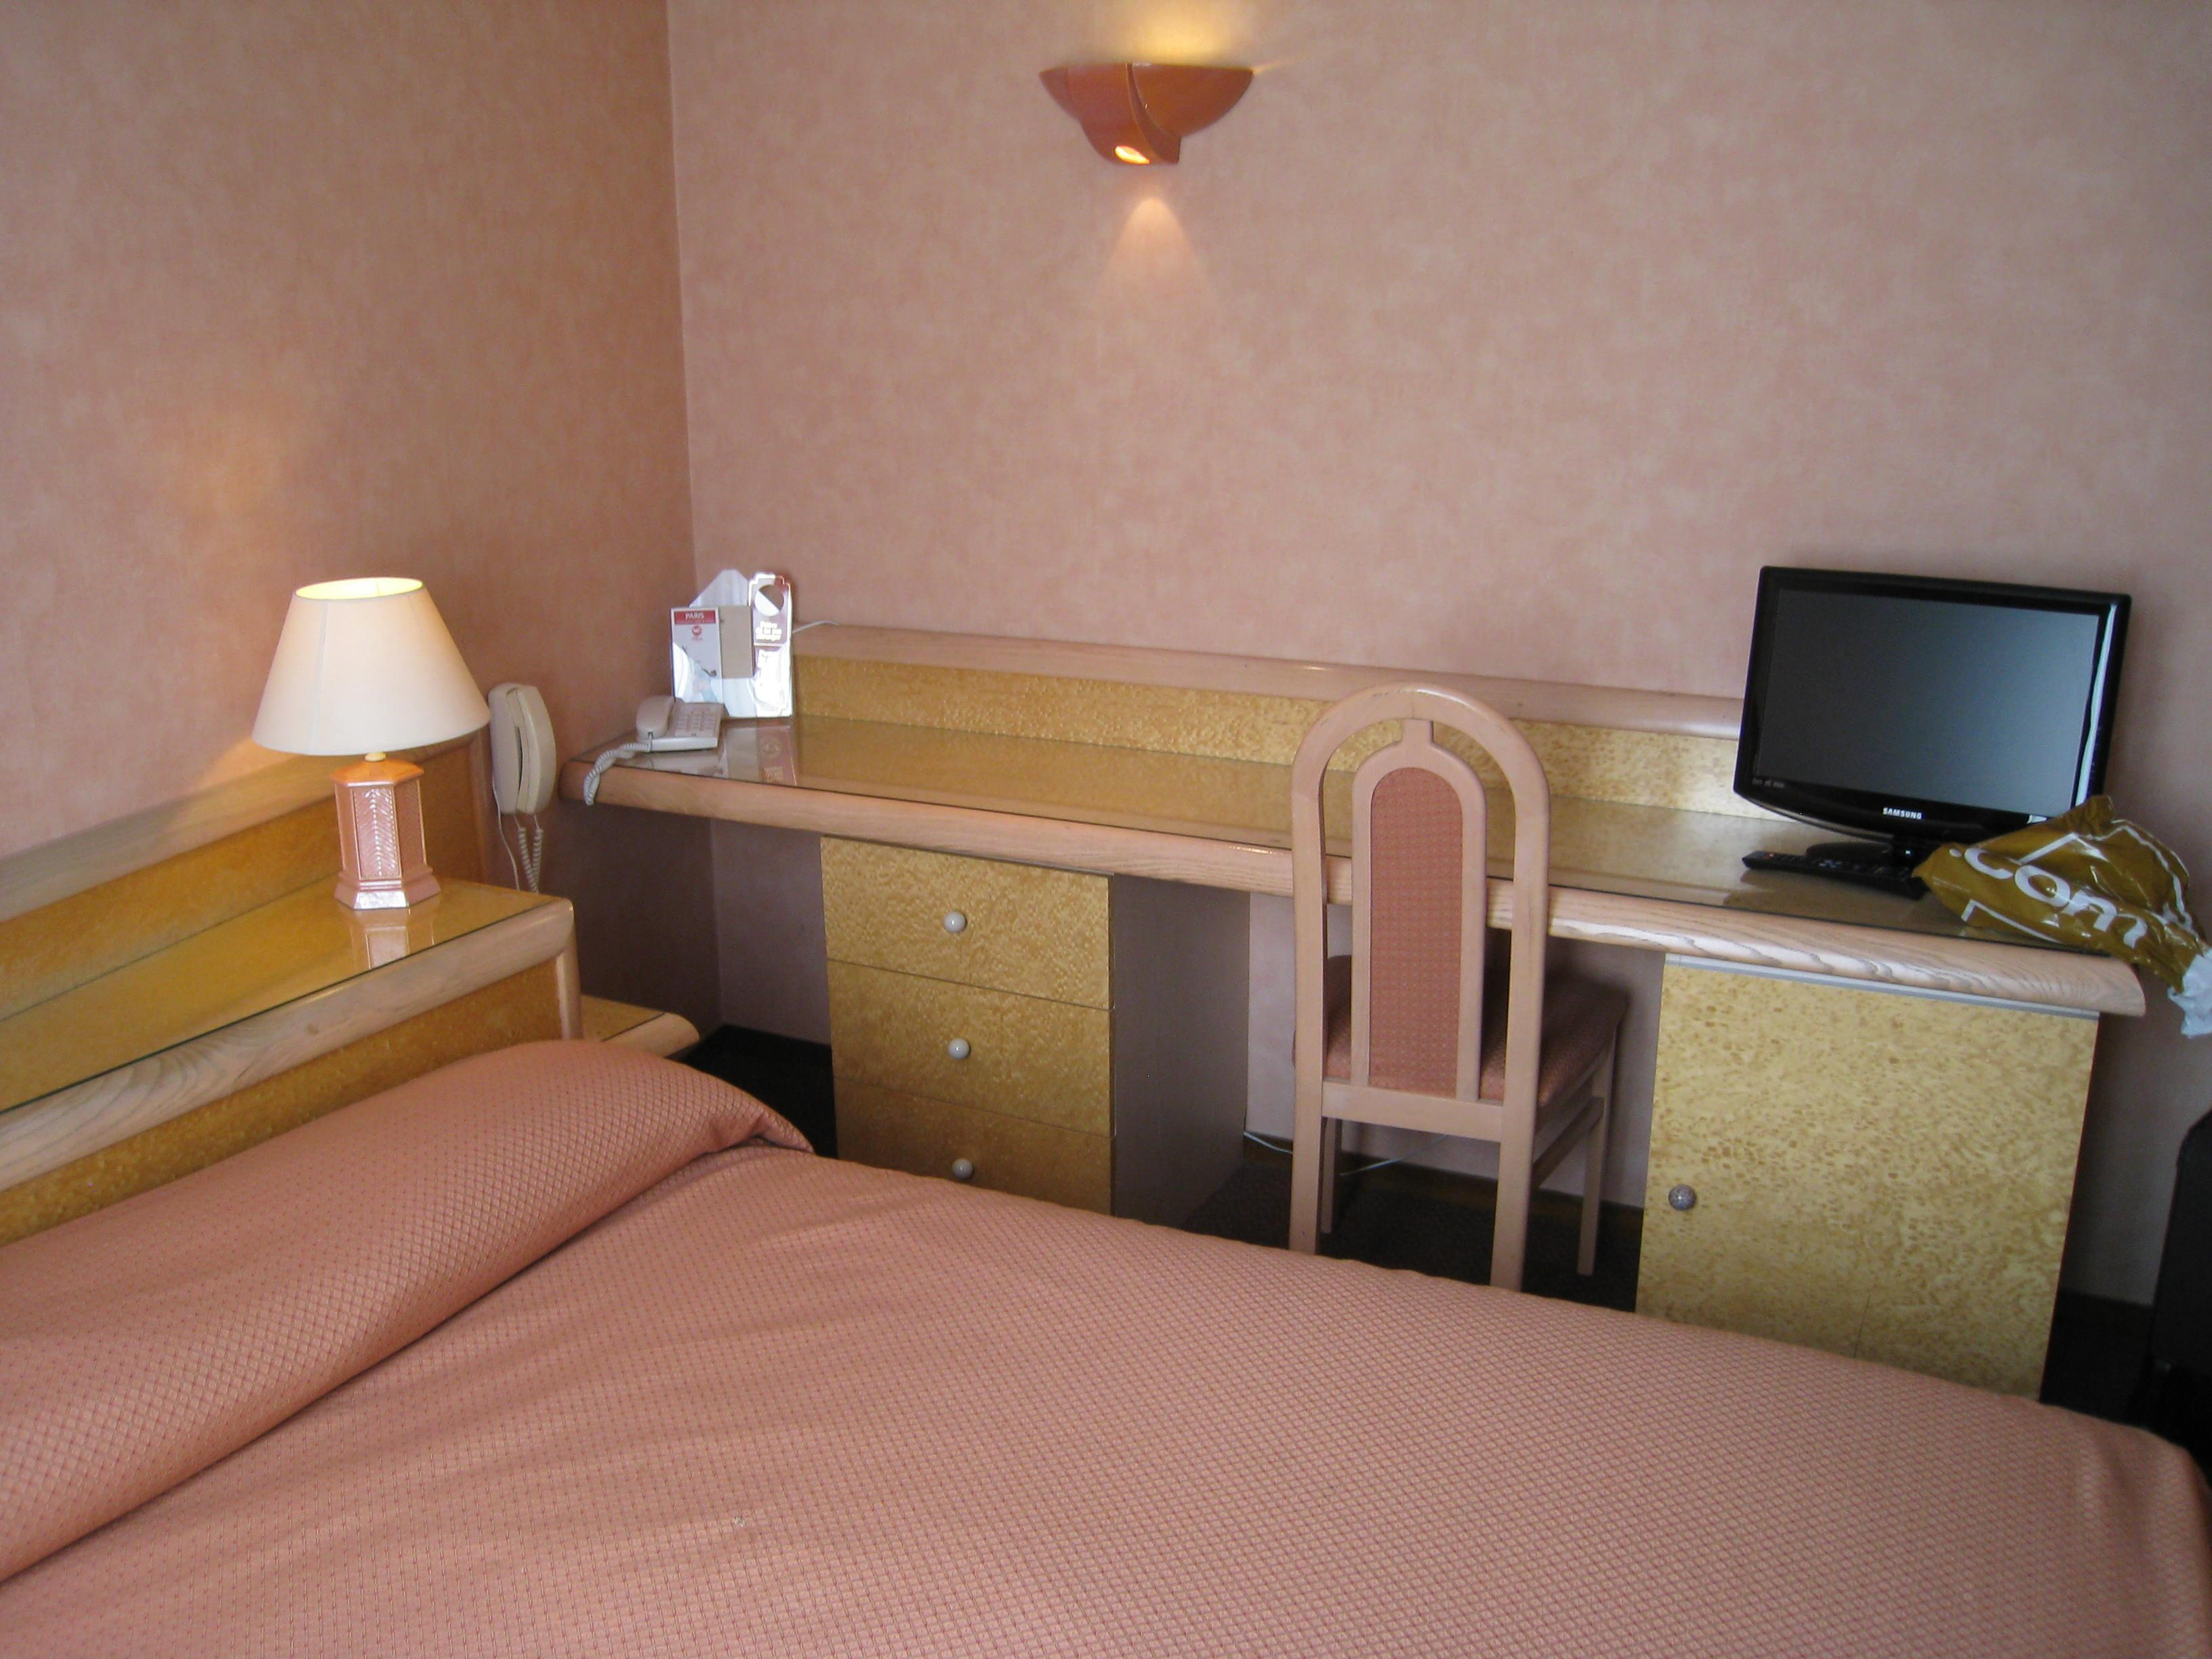Cama: (7, 1028, 2188, 1647)
